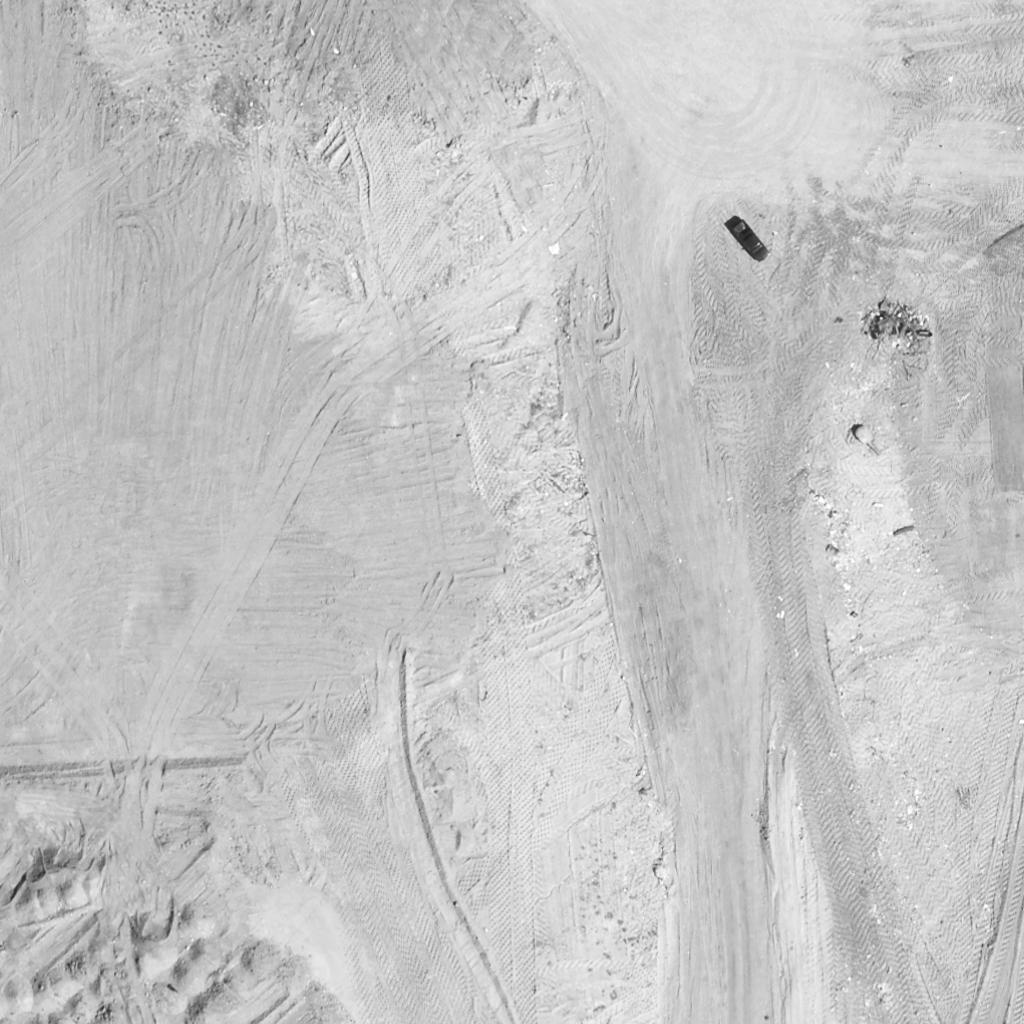vehicle: (730, 222, 770, 262)
